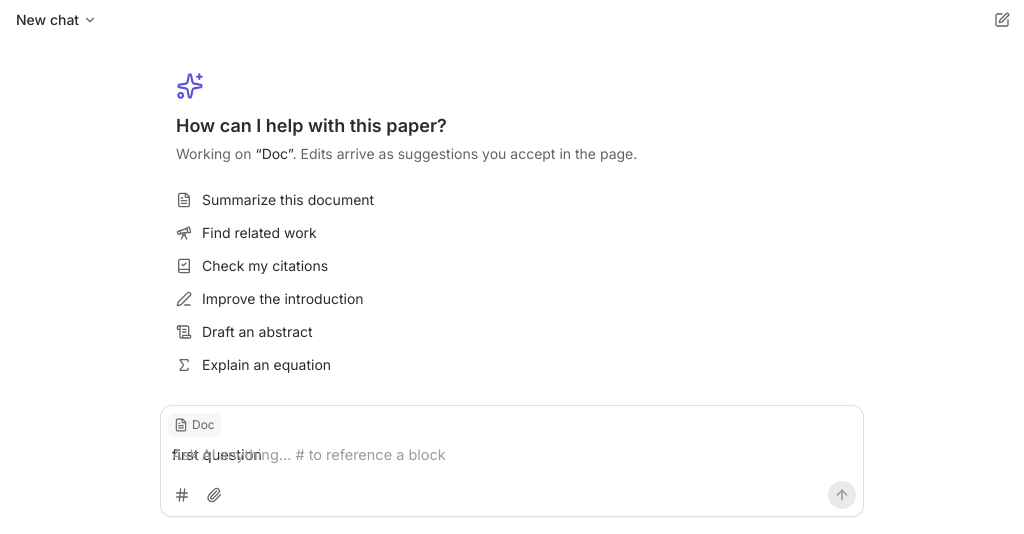
Test: the docked panel › starts over from New chat
Clear the field at {"x": 217, "y": 454}, box [172, 446, 262, 463]
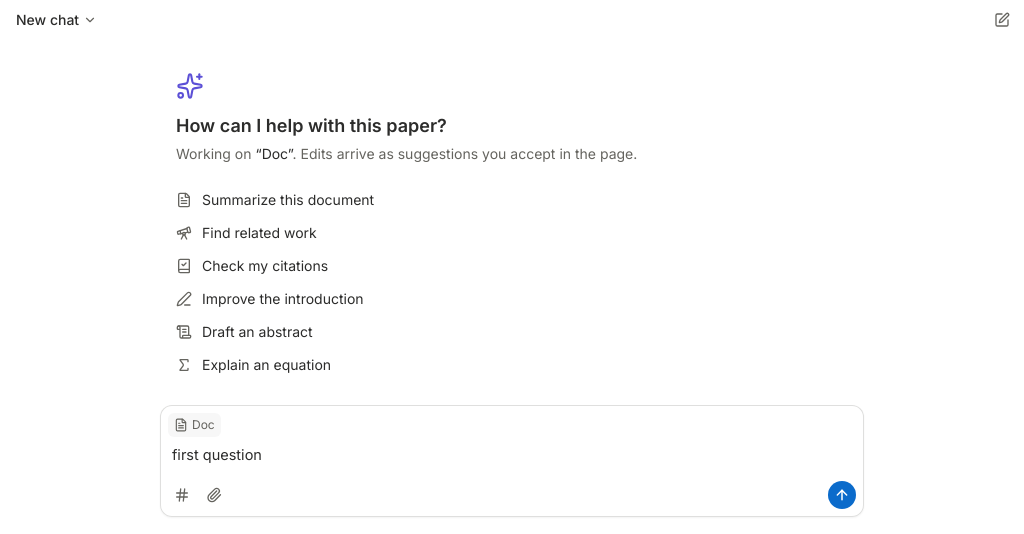
Click the button named "send message" at {"x": 842, "y": 495}, box [828, 481, 856, 509]
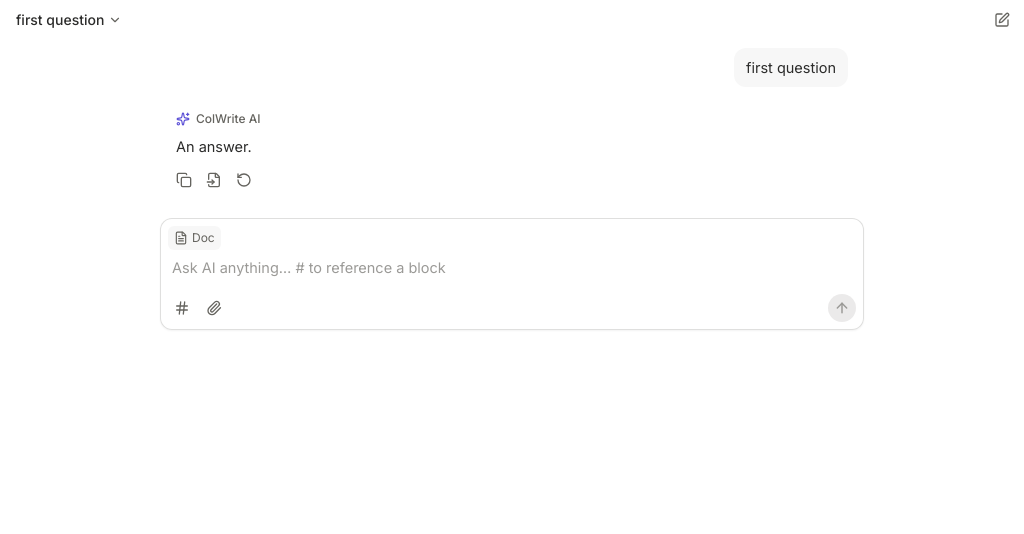
Now the button named "Retry" is shown, box [230, 166, 258, 194]
Click the button named "Start a new chat" at {"x": 1002, "y": 20}, box [988, 6, 1016, 34]
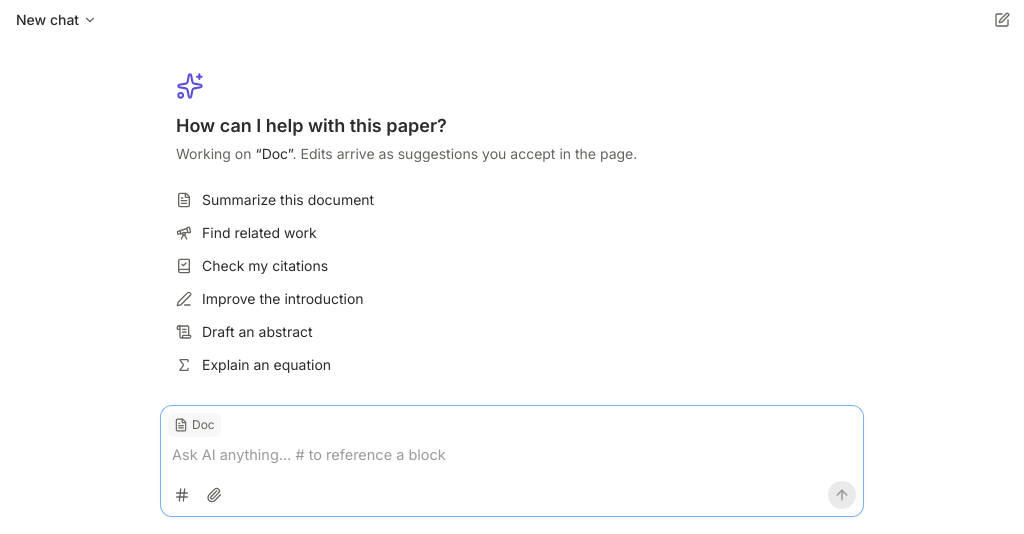
Now the button "Retry" is gone
Now the heading "How can I help with this paper?" is shown, box [176, 115, 447, 136]
